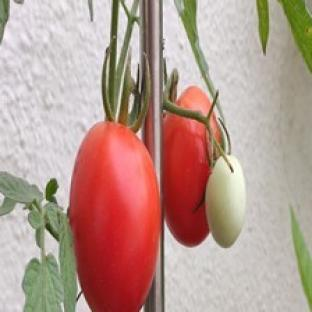Tomato: (70, 123, 160, 311), (163, 115, 211, 246), (205, 155, 246, 247)
